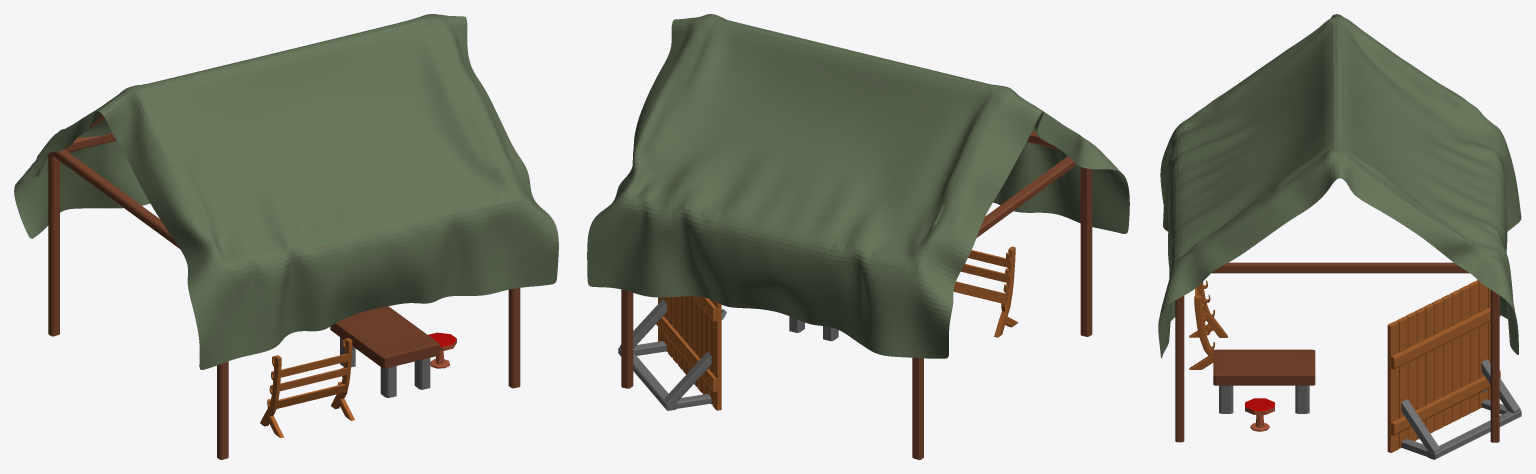
Rendered from Weapons.fbx.
3 views of the same model, side by side, from view 1: azimuth 30°, elevation 25°; view 2: azimuth 150°, elevation 25°; view 3: azimuth 270°, elevation 25° (orthographic). The views are drawn at different scales.
Visible parts, largest first — view 1: Плоскость.002, Cube.001, Стол, Стойка для мечей, Куб.001; view 2: Плоскость.002, Cube.001, Цилиндр.001, Куб.009, Стойка для мечей; view 3: Плоскость.002, Цилиндр.001, Cube.001, Стол, Куб.009, Стойка для мечей, Куб.001.
Part boxes in pixels (x1=…): Плоскость.002: x1=14, y1=14, x2=558, y2=369; Cube.001: x1=48, y1=114, x2=520, y2=459; Стол: x1=330, y1=306, x2=439, y2=398; Стойка для мечей: x1=260, y1=338, x2=354, y2=437; Куб.001: x1=428, y1=332, x2=456, y2=368; Плоскость.002: x1=587, y1=14, x2=1129, y2=358; Cube.001: x1=621, y1=131, x2=1092, y2=459; Цилиндр.001: x1=656, y1=296, x2=721, y2=410; Куб.009: x1=618, y1=299, x2=711, y2=410; Стойка для мечей: x1=953, y1=246, x2=1018, y2=337; Плоскость.002: x1=1158, y1=14, x2=1521, y2=358; Цилиндр.001: x1=1387, y1=280, x2=1500, y2=452; Cube.001: x1=1175, y1=262, x2=1499, y2=442; Стол: x1=1213, y1=349, x2=1315, y2=413; Куб.009: x1=1401, y1=359, x2=1521, y2=459; Стойка для мечей: x1=1189, y1=280, x2=1227, y2=369; Куб.001: x1=1245, y1=398, x2=1274, y2=431.
Size of the model in its own units: 3749 by 2986 by 3385.
